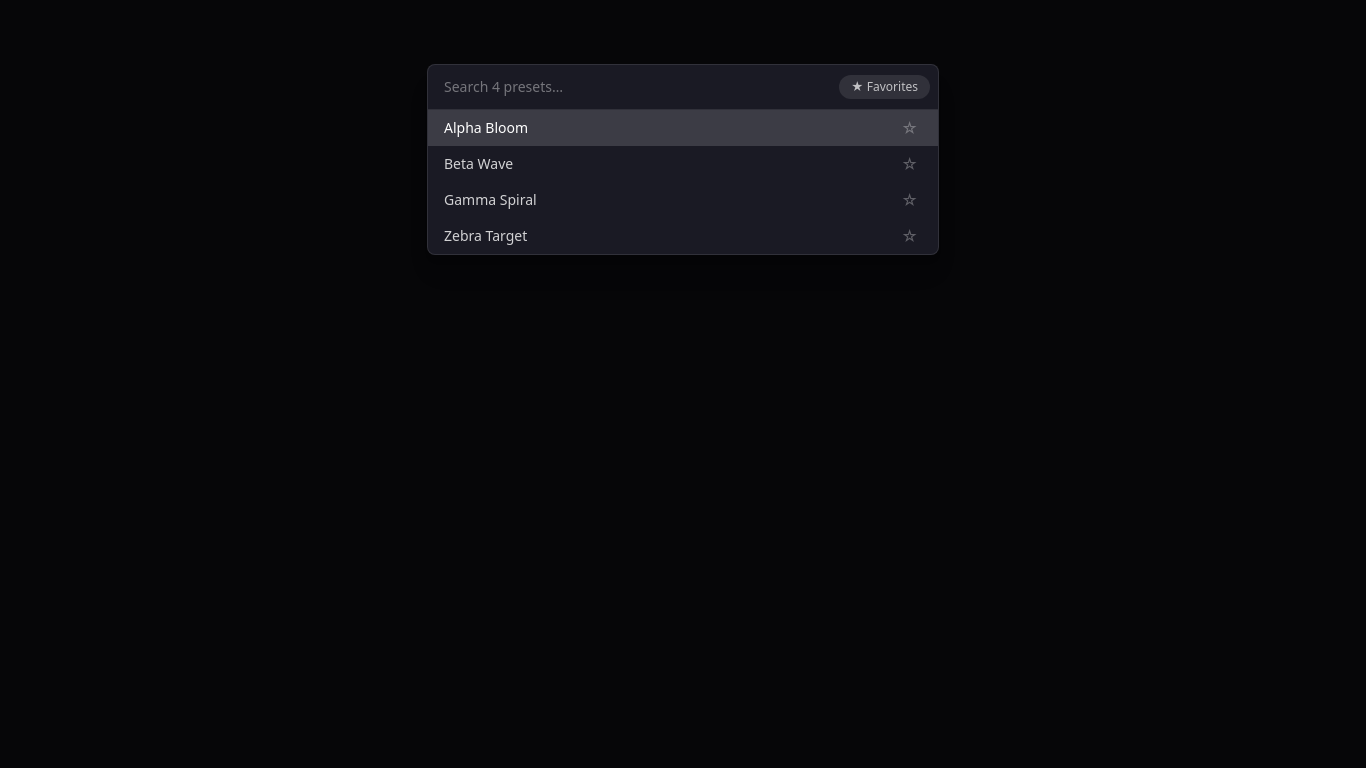
it: PresetSearch › shows a no-match state
In the field: (634, 87) [428,65,839,109], type "qqqzzz-nomatch"
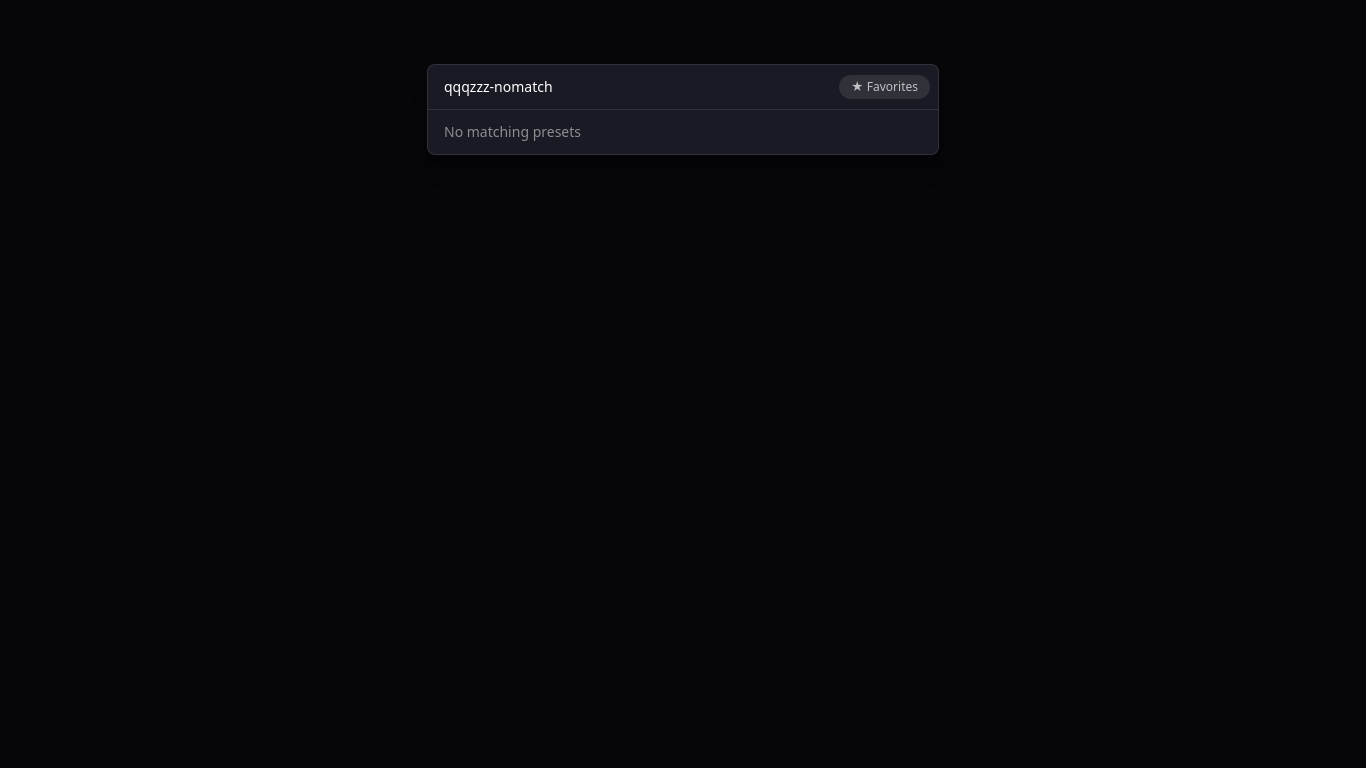
Result: the list item "No matching presets" is shown at [444,122,581,141]
Result: no options are shown
